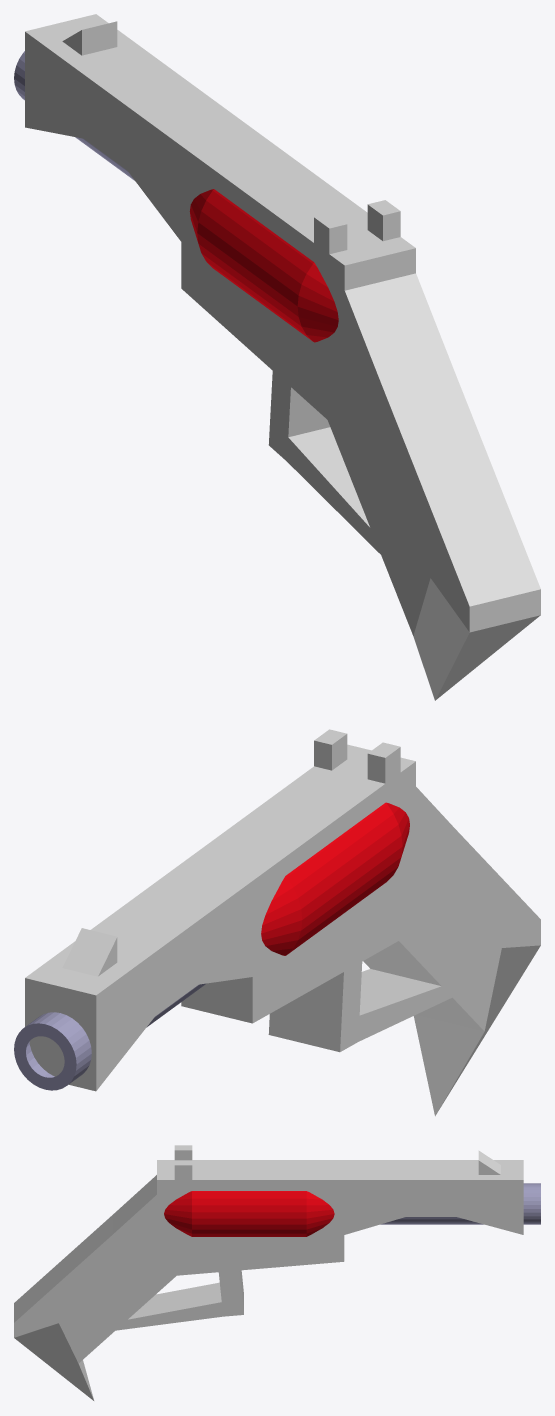
The model's file is Gun.fbx.
3 renders of one model, top to bottom at view 1: azimuth 30°, elevation 25°; view 2: azimuth 150°, elevation 25°; view 3: azimuth 270°, elevation 25°, orthographic. The views are drawn at different scales.
Visible parts, largest first — view 1: Cube, Chamber; view 2: Cube, Chamber, Barrell; view 3: Cube, Chamber, Barrell.
Boxes of the visible parts, x1,y1,x2,y2 form: Cube: [25, 14, 540, 700]; Chamber: [189, 189, 338, 342]; Cube: [25, 729, 540, 1116]; Chamber: [261, 802, 409, 955]; Barrell: [14, 983, 206, 1090]; Cube: [14, 1145, 523, 1400]; Chamber: [164, 1191, 334, 1236]; Barrell: [380, 1183, 540, 1224].
Bounding box in the file's own units: 155 × 606 × 1176.
